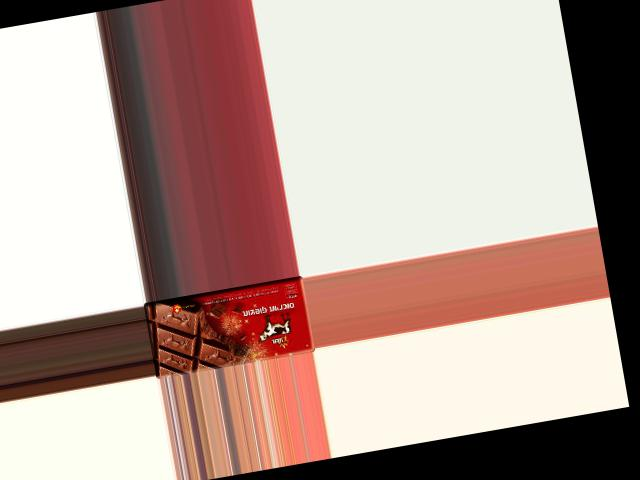chocolate: (144, 275, 315, 378)
